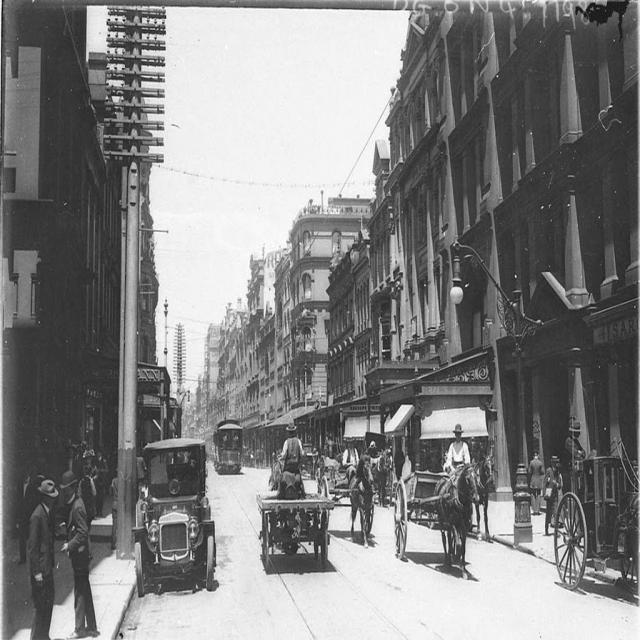body: (57, 469, 102, 639), (27, 477, 60, 640), (280, 416, 308, 500), (81, 451, 108, 522), (565, 419, 587, 494), (542, 453, 561, 538), (76, 464, 98, 534), (442, 423, 472, 474), (527, 449, 545, 516), (550, 462, 564, 528), (341, 438, 361, 483), (110, 466, 118, 552), (135, 449, 147, 503), (399, 453, 412, 497), (366, 440, 382, 473), (380, 447, 392, 490), (394, 442, 406, 482), (259, 447, 265, 469), (254, 447, 260, 469)
